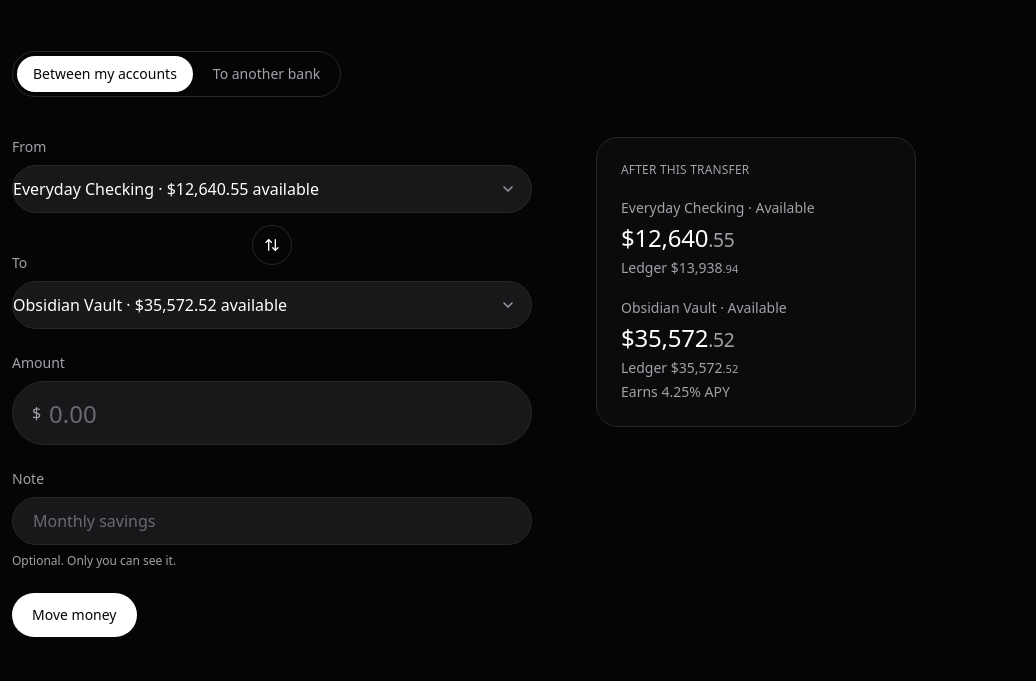
it: TransferPage external transfers › replaces the account number with its last four digits when you leave the field
Click the radio button labelled "To another bank".
click(267, 74)  # box [213,64,320,83]
(page scrolled)
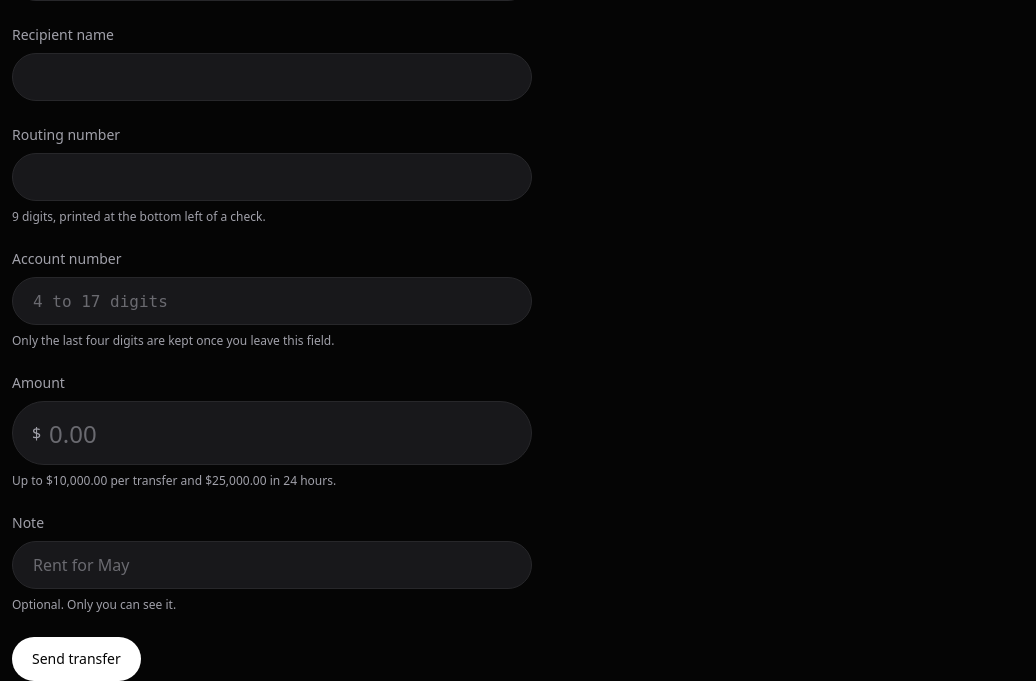
Type "000123456789" into the field labelled "Account number".
click(272, 301); type("000123456789")  # box [12,277,532,325]
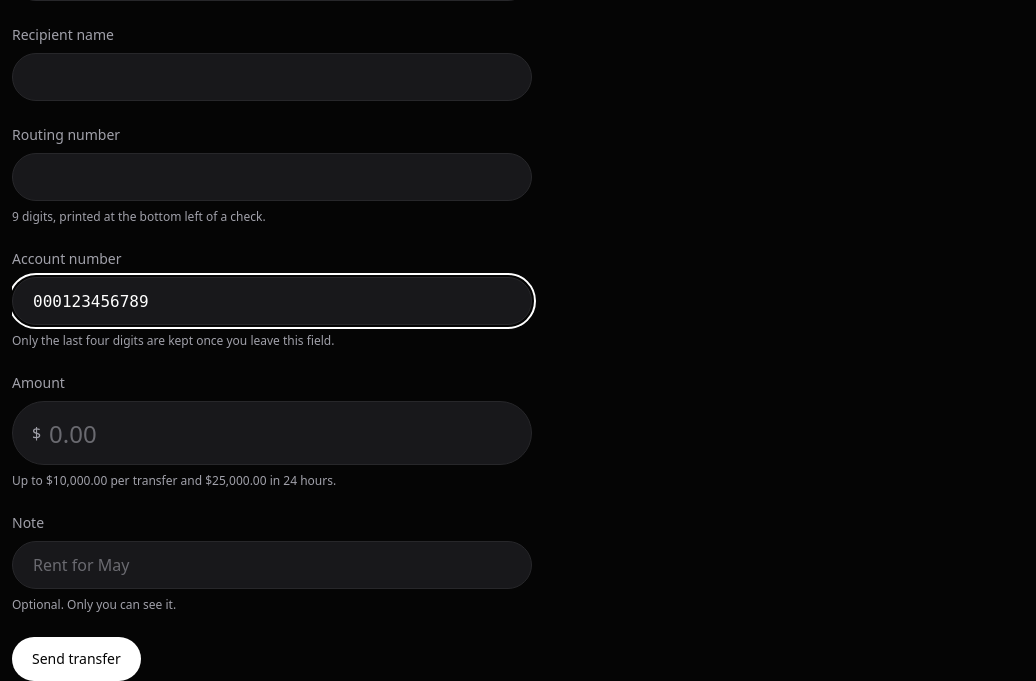
Press Tab
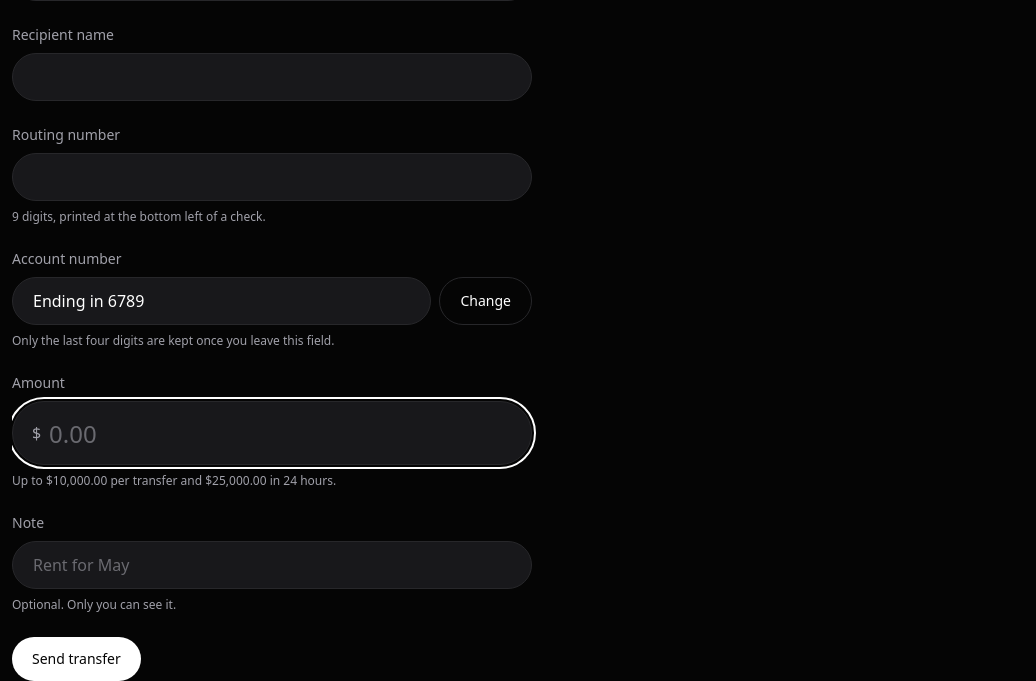
Check: the field showing "000123456789" is not shown
Check: the field labelled "Account number" holds "Ending in 6789", box [12,277,432,325]
